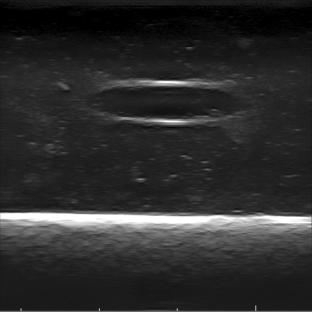vessel: (86, 79, 249, 126)
